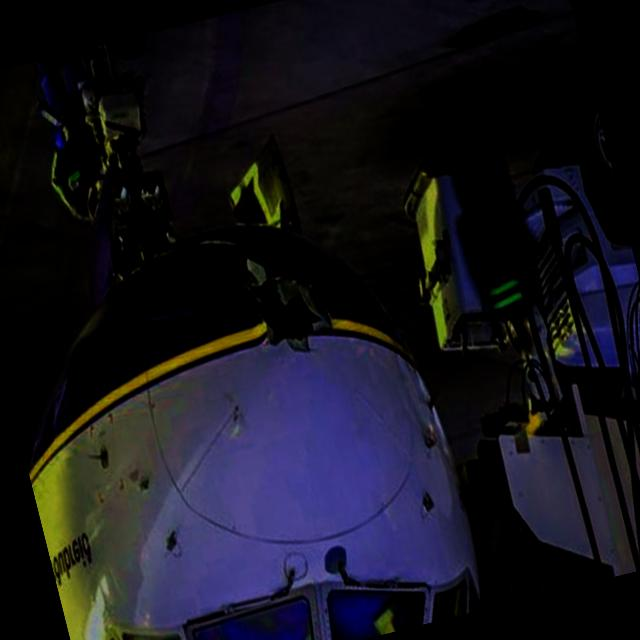crack: (234, 240, 336, 369)
